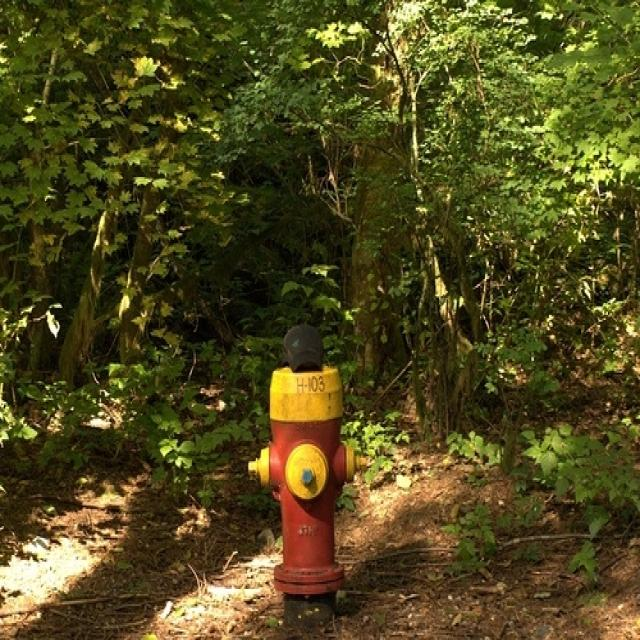fire_hydrant: (246, 296, 376, 640)
